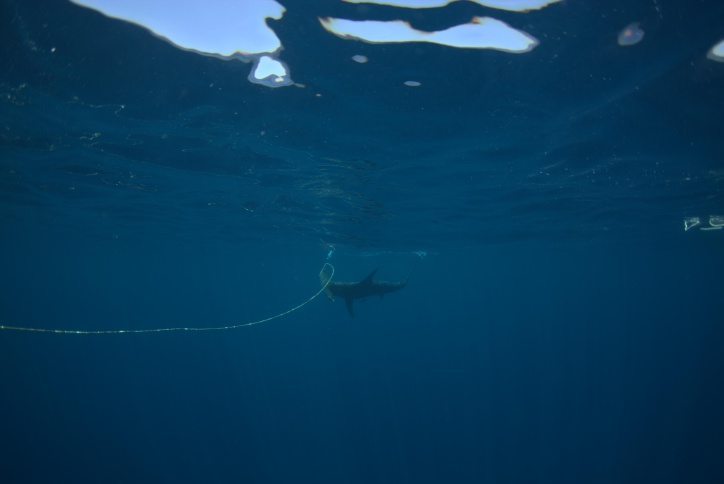Hammer: (310, 252, 437, 315)
